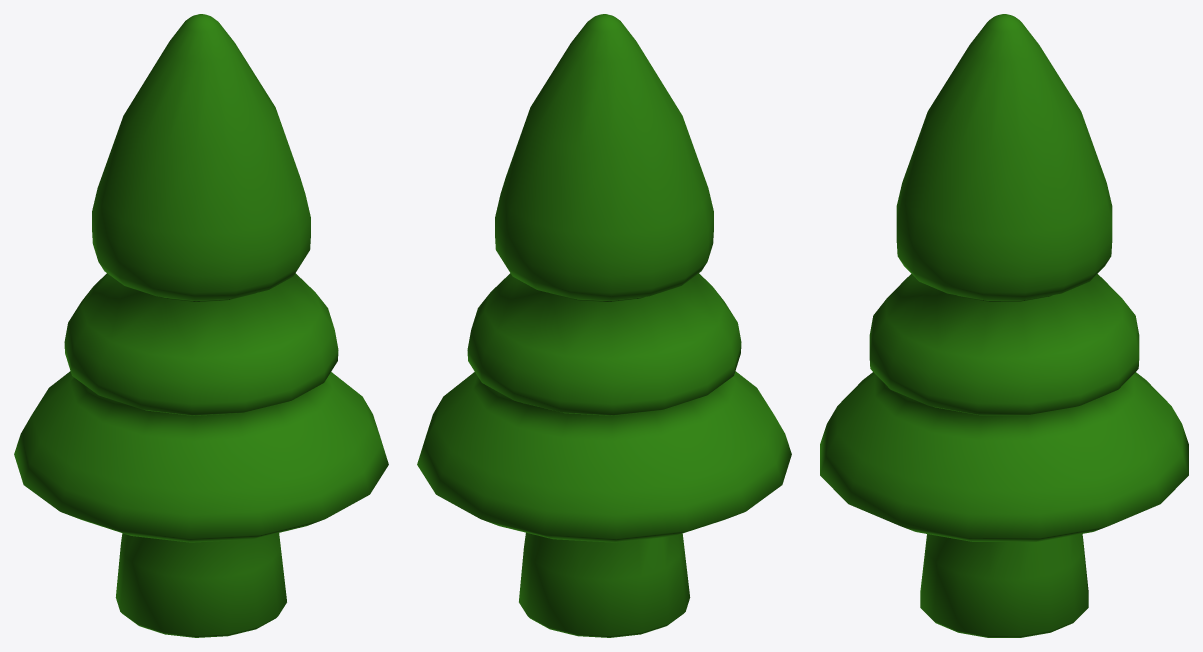
File: tree.gltf
The picture shows the model from 3 angles, left to right: view 1: azimuth 30°, elevation 25°; view 2: azimuth 150°, elevation 25°; view 3: azimuth 270°, elevation 25°; orthographic projection.
Visible parts, largest first — view 1: coneTreeBig; view 2: coneTreeBig; view 3: coneTreeBig.
Boxes of the visible parts, x1,y1,x2,y2 form: coneTreeBig: [14, 14, 388, 637]; coneTreeBig: [417, 14, 791, 637]; coneTreeBig: [820, 14, 1188, 637].
Size of the model in its own units: 1.84 by 3.24 by 1.84.
